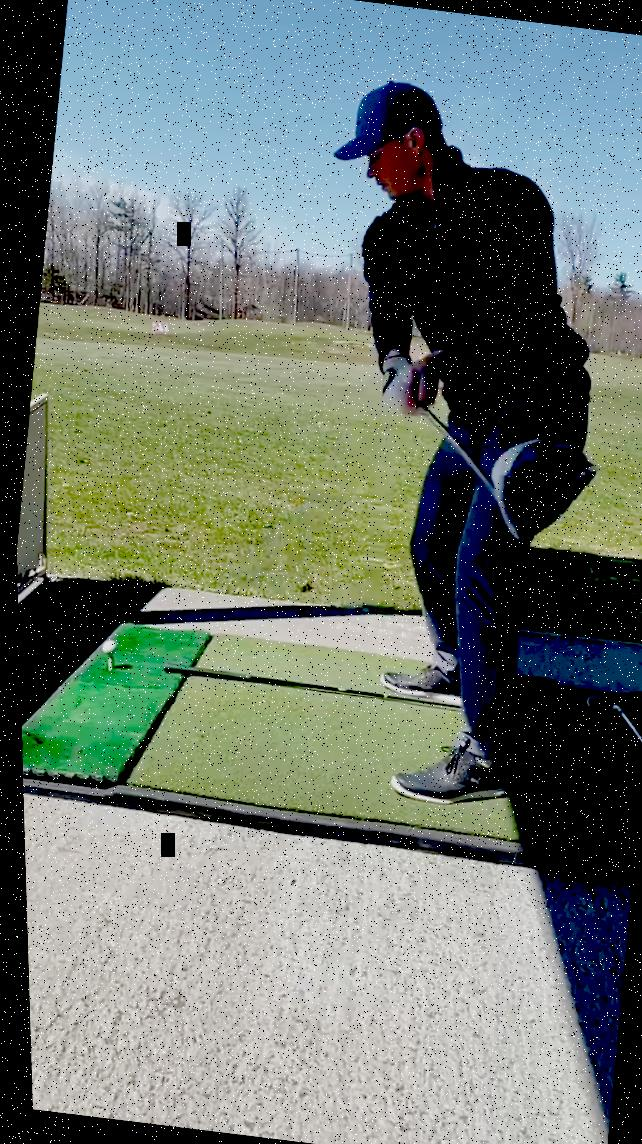ClubHead: (465, 416, 606, 564), (572, 682, 627, 727)
GolfBall: (94, 635, 115, 658)
